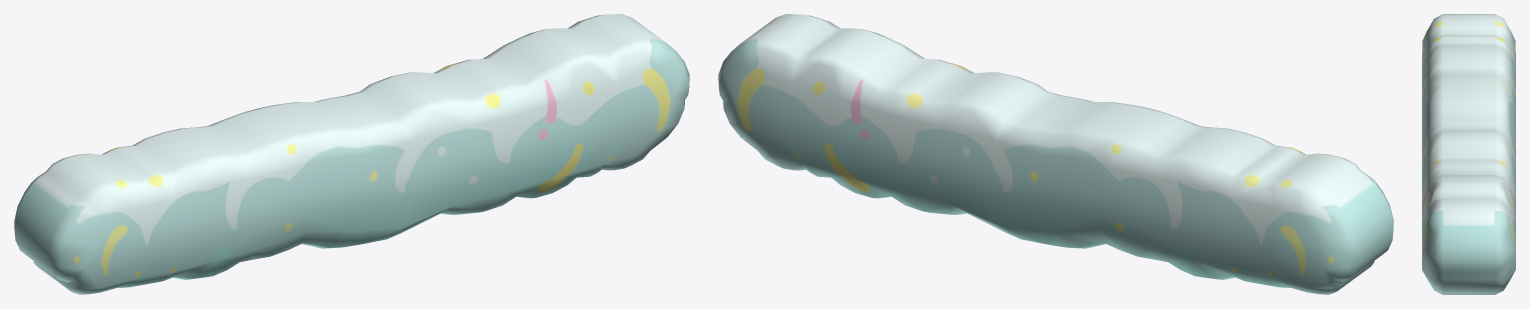
The model's file is Mesh_Adventure_Catch_Cloud_2_SM.fbx.
3 views of the same model, side by side, from view 1: azimuth 30°, elevation 25°; view 2: azimuth 150°, elevation 25°; view 3: azimuth 270°, elevation 25° (orthographic). The views are drawn at different scales.
Parts seen in each view (by area): view 1: Mesh_Adventure_Catch_Cloud_2; view 2: Mesh_Adventure_Catch_Cloud_2; view 3: Mesh_Adventure_Catch_Cloud_2.
Part boxes in pixels (box(x1,y1,x2,y2)): Mesh_Adventure_Catch_Cloud_2: box(14, 14, 689, 294); Mesh_Adventure_Catch_Cloud_2: box(718, 14, 1393, 294); Mesh_Adventure_Catch_Cloud_2: box(1422, 14, 1515, 294).
Size of the model in its own units: 221 by 45.35 by 37.08.
Materials: 1 (1 with a texture image).
